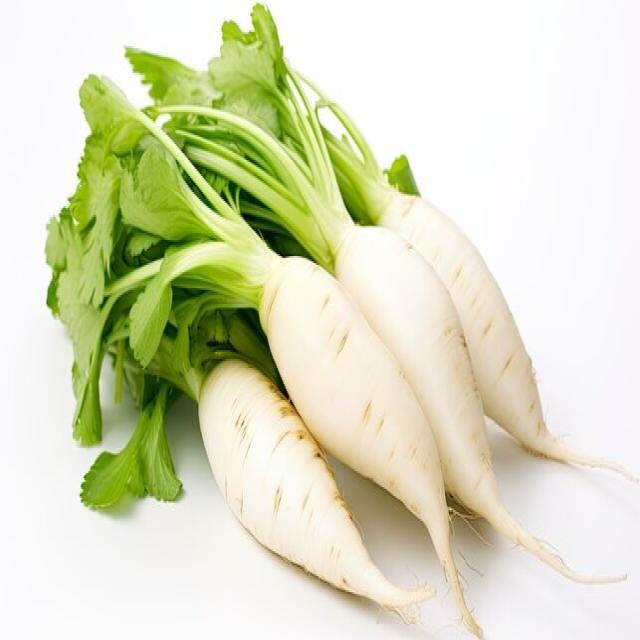Carrot: (332, 217, 628, 585)
Radish: (43, 2, 635, 633), (311, 92, 637, 484), (196, 353, 436, 628)
